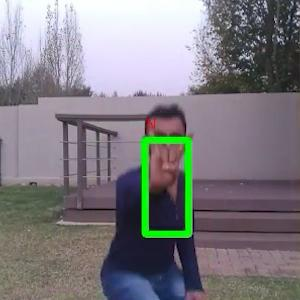takeoff-hand: (140, 120, 201, 196)
